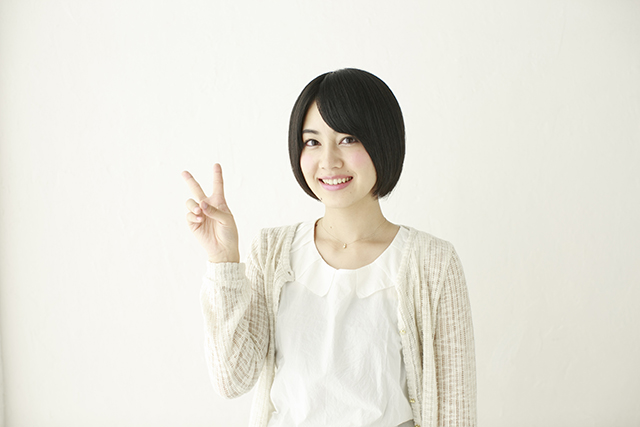face: (300, 100, 376, 203)
hand: (181, 161, 240, 260)
